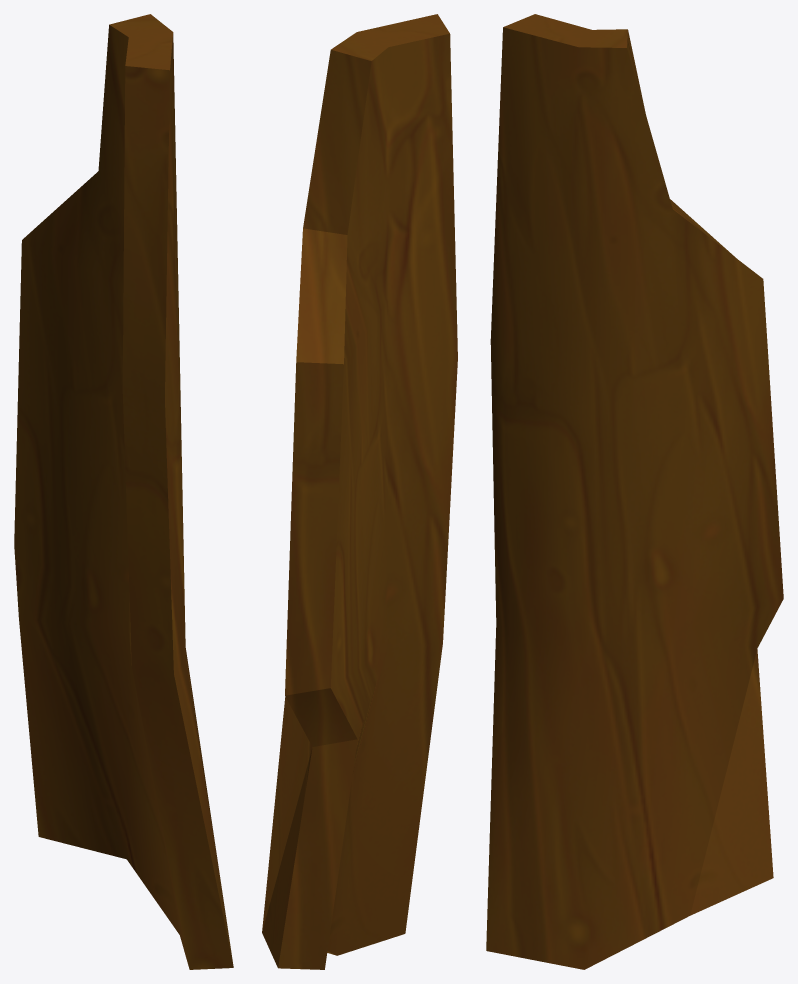
File: p_mesh_hvs_leafy_bark01.fbx
The picture shows the model from 3 angles, left to right: view 1: azimuth 30°, elevation 25°; view 2: azimuth 150°, elevation 25°; view 3: azimuth 270°, elevation 25°; orthographic projection. The views are drawn at different scales.
Visible parts, largest first — view 1: model; view 2: model; view 3: model.
Boxes of the visible parts, box(x1,y1,x2,y2) form: model: box(14, 14, 233, 969); model: box(262, 14, 457, 969); model: box(486, 14, 783, 969).
Bounding box in the file's own units: 0.5969 × 4.02 × 1.2.
1 material, 1 textured.
